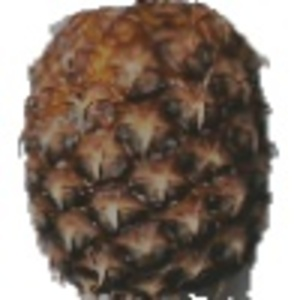abacaxi: (17, 2, 274, 297)
